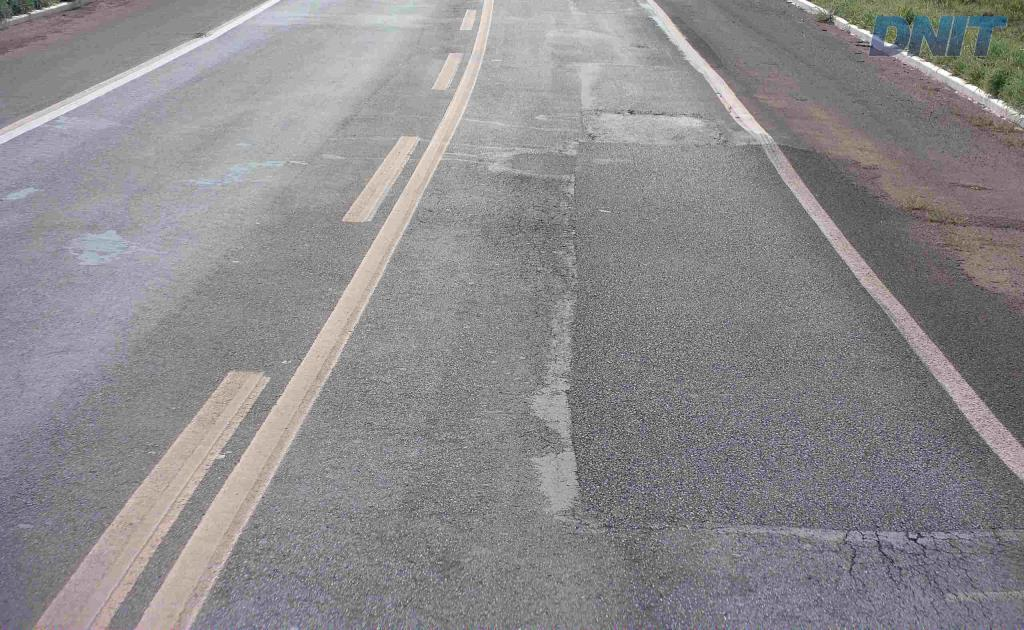crack: (884, 530, 977, 599), (872, 530, 907, 590)
